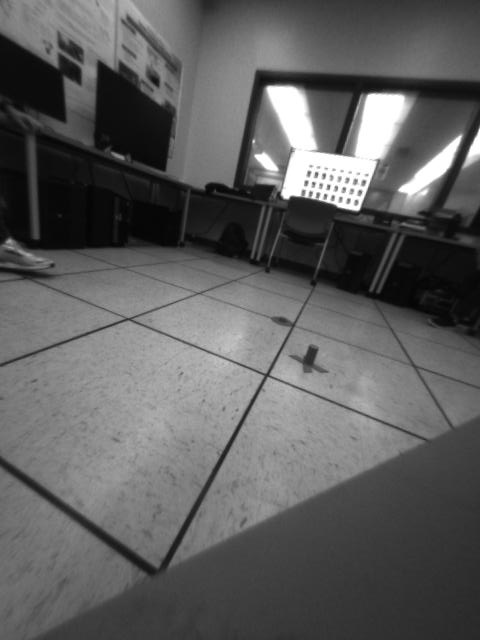X: (287, 345, 332, 375)
